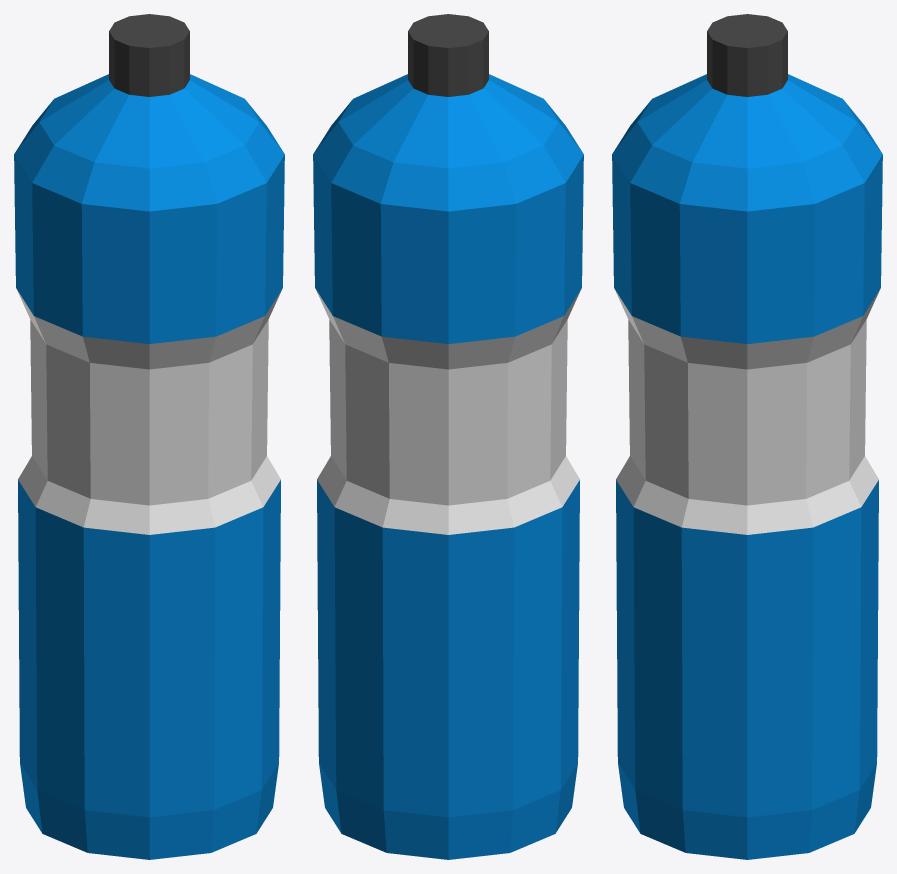
File: Stay hydrate.fbx
3 renders of one model, left to right at view 1: azimuth 30°, elevation 25°; view 2: azimuth 150°, elevation 25°; view 3: azimuth 270°, elevation 25°, orthographic.
Visible parts, largest first — view 1: Hydrate; view 2: Hydrate; view 3: Hydrate.
Boxes of the visible parts, bbox=[...] form: Hydrate: bbox=[14, 14, 284, 859]; Hydrate: bbox=[313, 14, 583, 859]; Hydrate: bbox=[612, 14, 882, 859].
Bounding box in the file's own units: 68.95 × 218 × 68.95.
